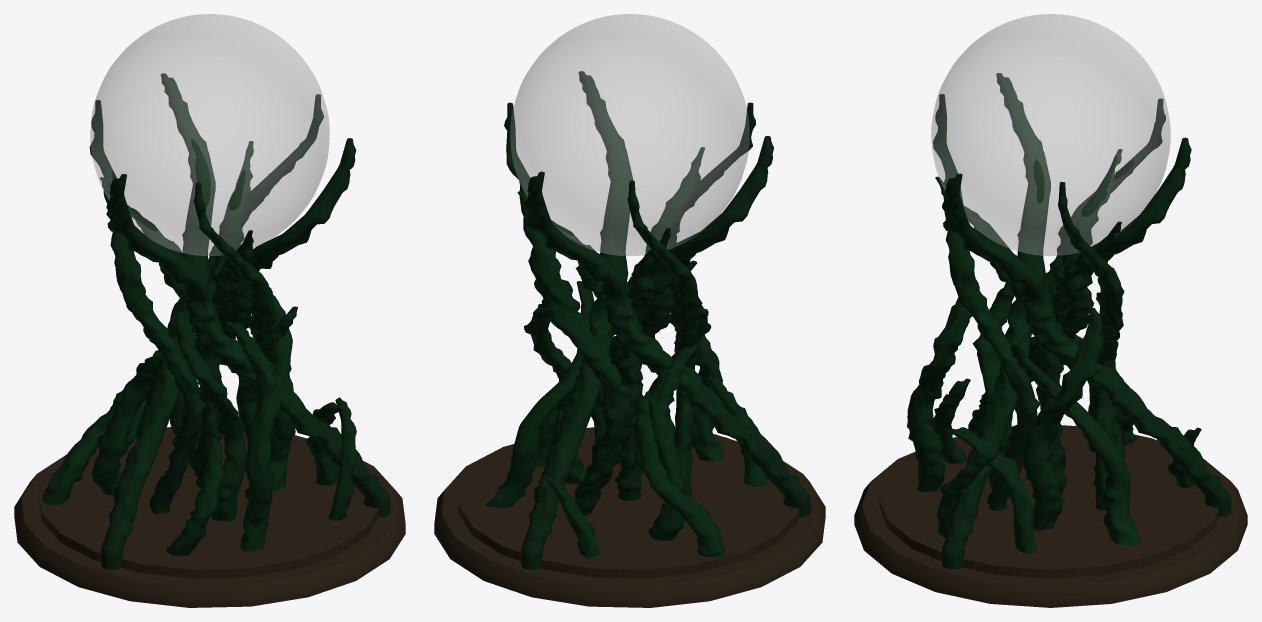
File: ball-transformed.glb
3 views of the same model, side by side, from view 1: azimuth 30°, elevation 25°; view 2: azimuth 150°, elevation 25°; view 3: azimuth 270°, elevation 25° (orthographic).
Parts seen in each view (by area): view 1: Object_3, Object_2, Object_7; view 2: Object_3, Object_2, Object_7; view 3: Object_3, Object_2, Object_7.
Part boxes in pixels (<box>): Object_3: <box>42,73,390,569</box>; Object_2: <box>90,14,329,255</box>; Object_7: <box>14,427,405,607</box>; Object_3: <box>485,71,810,569</box>; Object_2: <box>510,14,749,255</box>; Object_7: <box>434,427,825,607</box>; Object_3: <box>906,73,1231,569</box>; Object_2: <box>931,14,1170,255</box>; Object_7: <box>854,425,1247,607</box>.
Size of the model in its own units: 11.23 by 15.75 by 11.23.
Materials: 3 (1 with a texture image).
